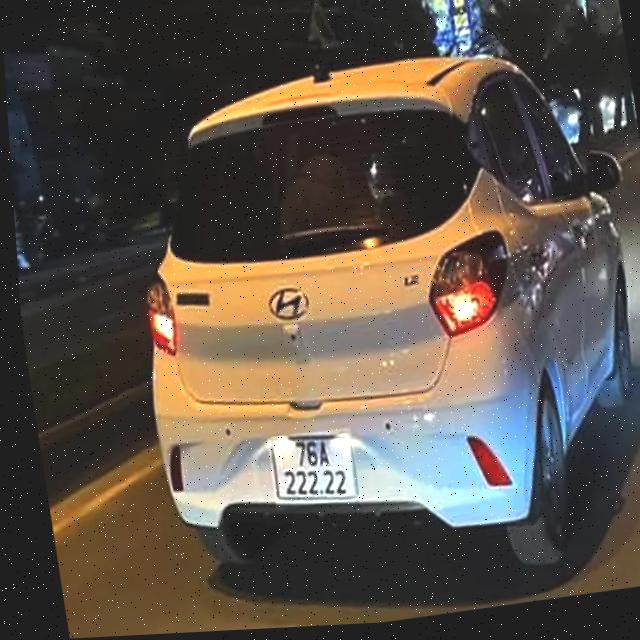car: (47, 0, 640, 625)
plate: (257, 422, 369, 516)
